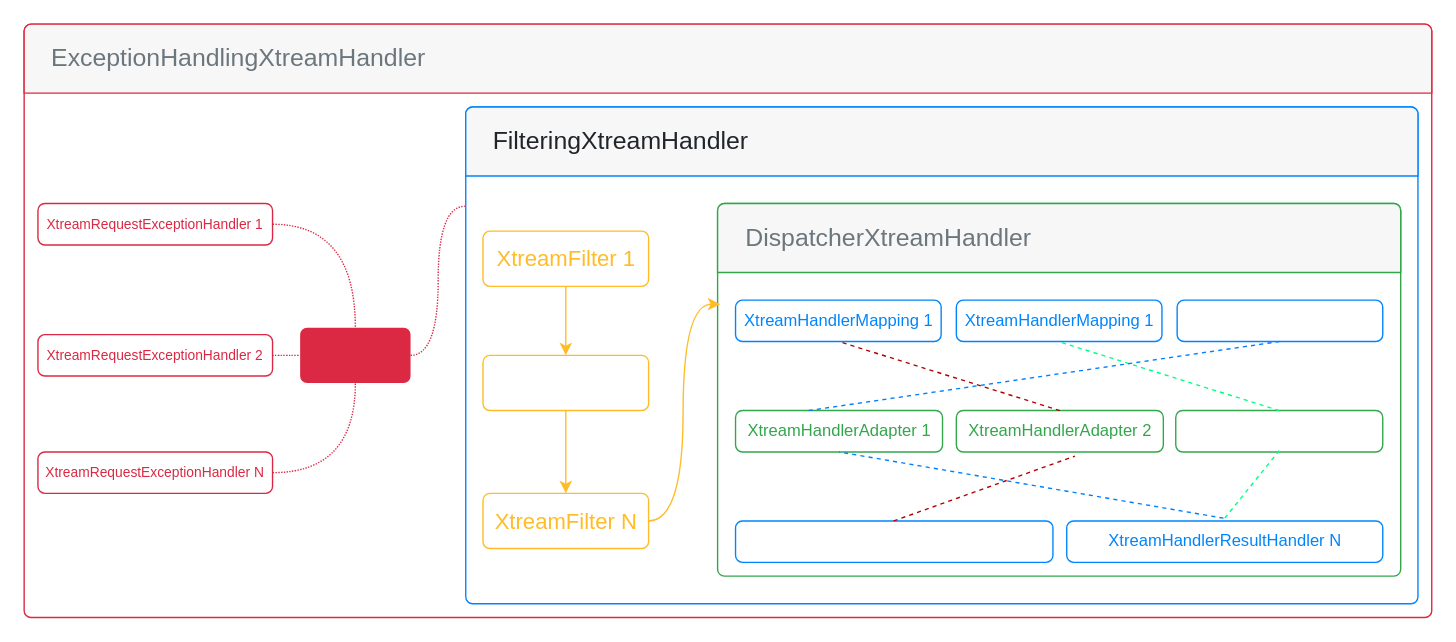
Image size: 1456x642. Some labels were removed from this diagram. The box of each missing label's shape, as (x1, y1, x2, y2) in pixels:
XtreamFilter 2: (482, 354, 649, 411)
XtreamHandlerAdapter N: (1174, 409, 1383, 452)
XtreamHandlerMapping N: (1176, 299, 1383, 342)
XtreamHandlerResultHandler 1: (734, 520, 1053, 562)
异常: (299, 327, 410, 382)
